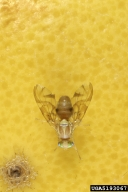Fruit fly: (17, 70, 102, 159)
